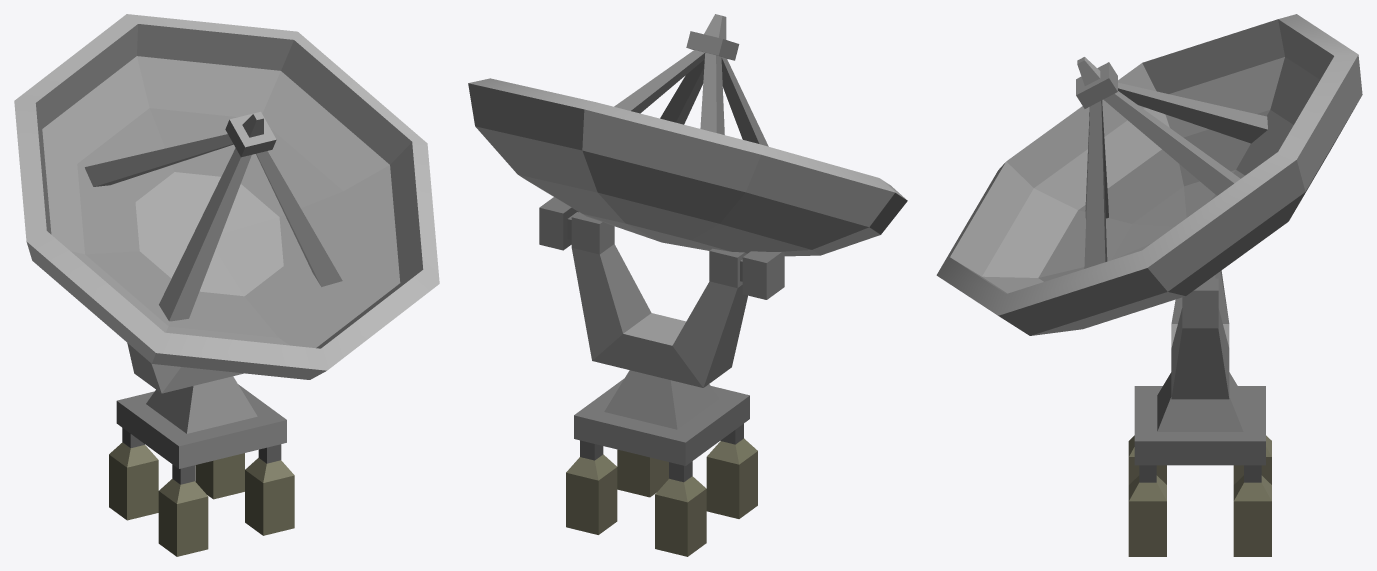
Rendered from SM_Bld_RadarDish_01.fbx.
The picture shows the model from 3 angles, left to right: view 1: azimuth 30°, elevation 25°; view 2: azimuth 150°, elevation 25°; view 3: azimuth 270°, elevation 25°; orthographic projection. The views are drawn at different scales.
Parts seen in each view (by area): view 1: SM_Bld_RadarDish_01; view 2: SM_Bld_RadarDish_01; view 3: SM_Bld_RadarDish_01.
Boxes of the visible parts, left/top/right/bottom form: SM_Bld_RadarDish_01: left=14, top=14, right=439, bottom=556; SM_Bld_RadarDish_01: left=468, top=14, right=907, bottom=556; SM_Bld_RadarDish_01: left=936, top=14, right=1362, bottom=556.
Size of the model in its own units: 22.33 by 23.87 by 19.52.
